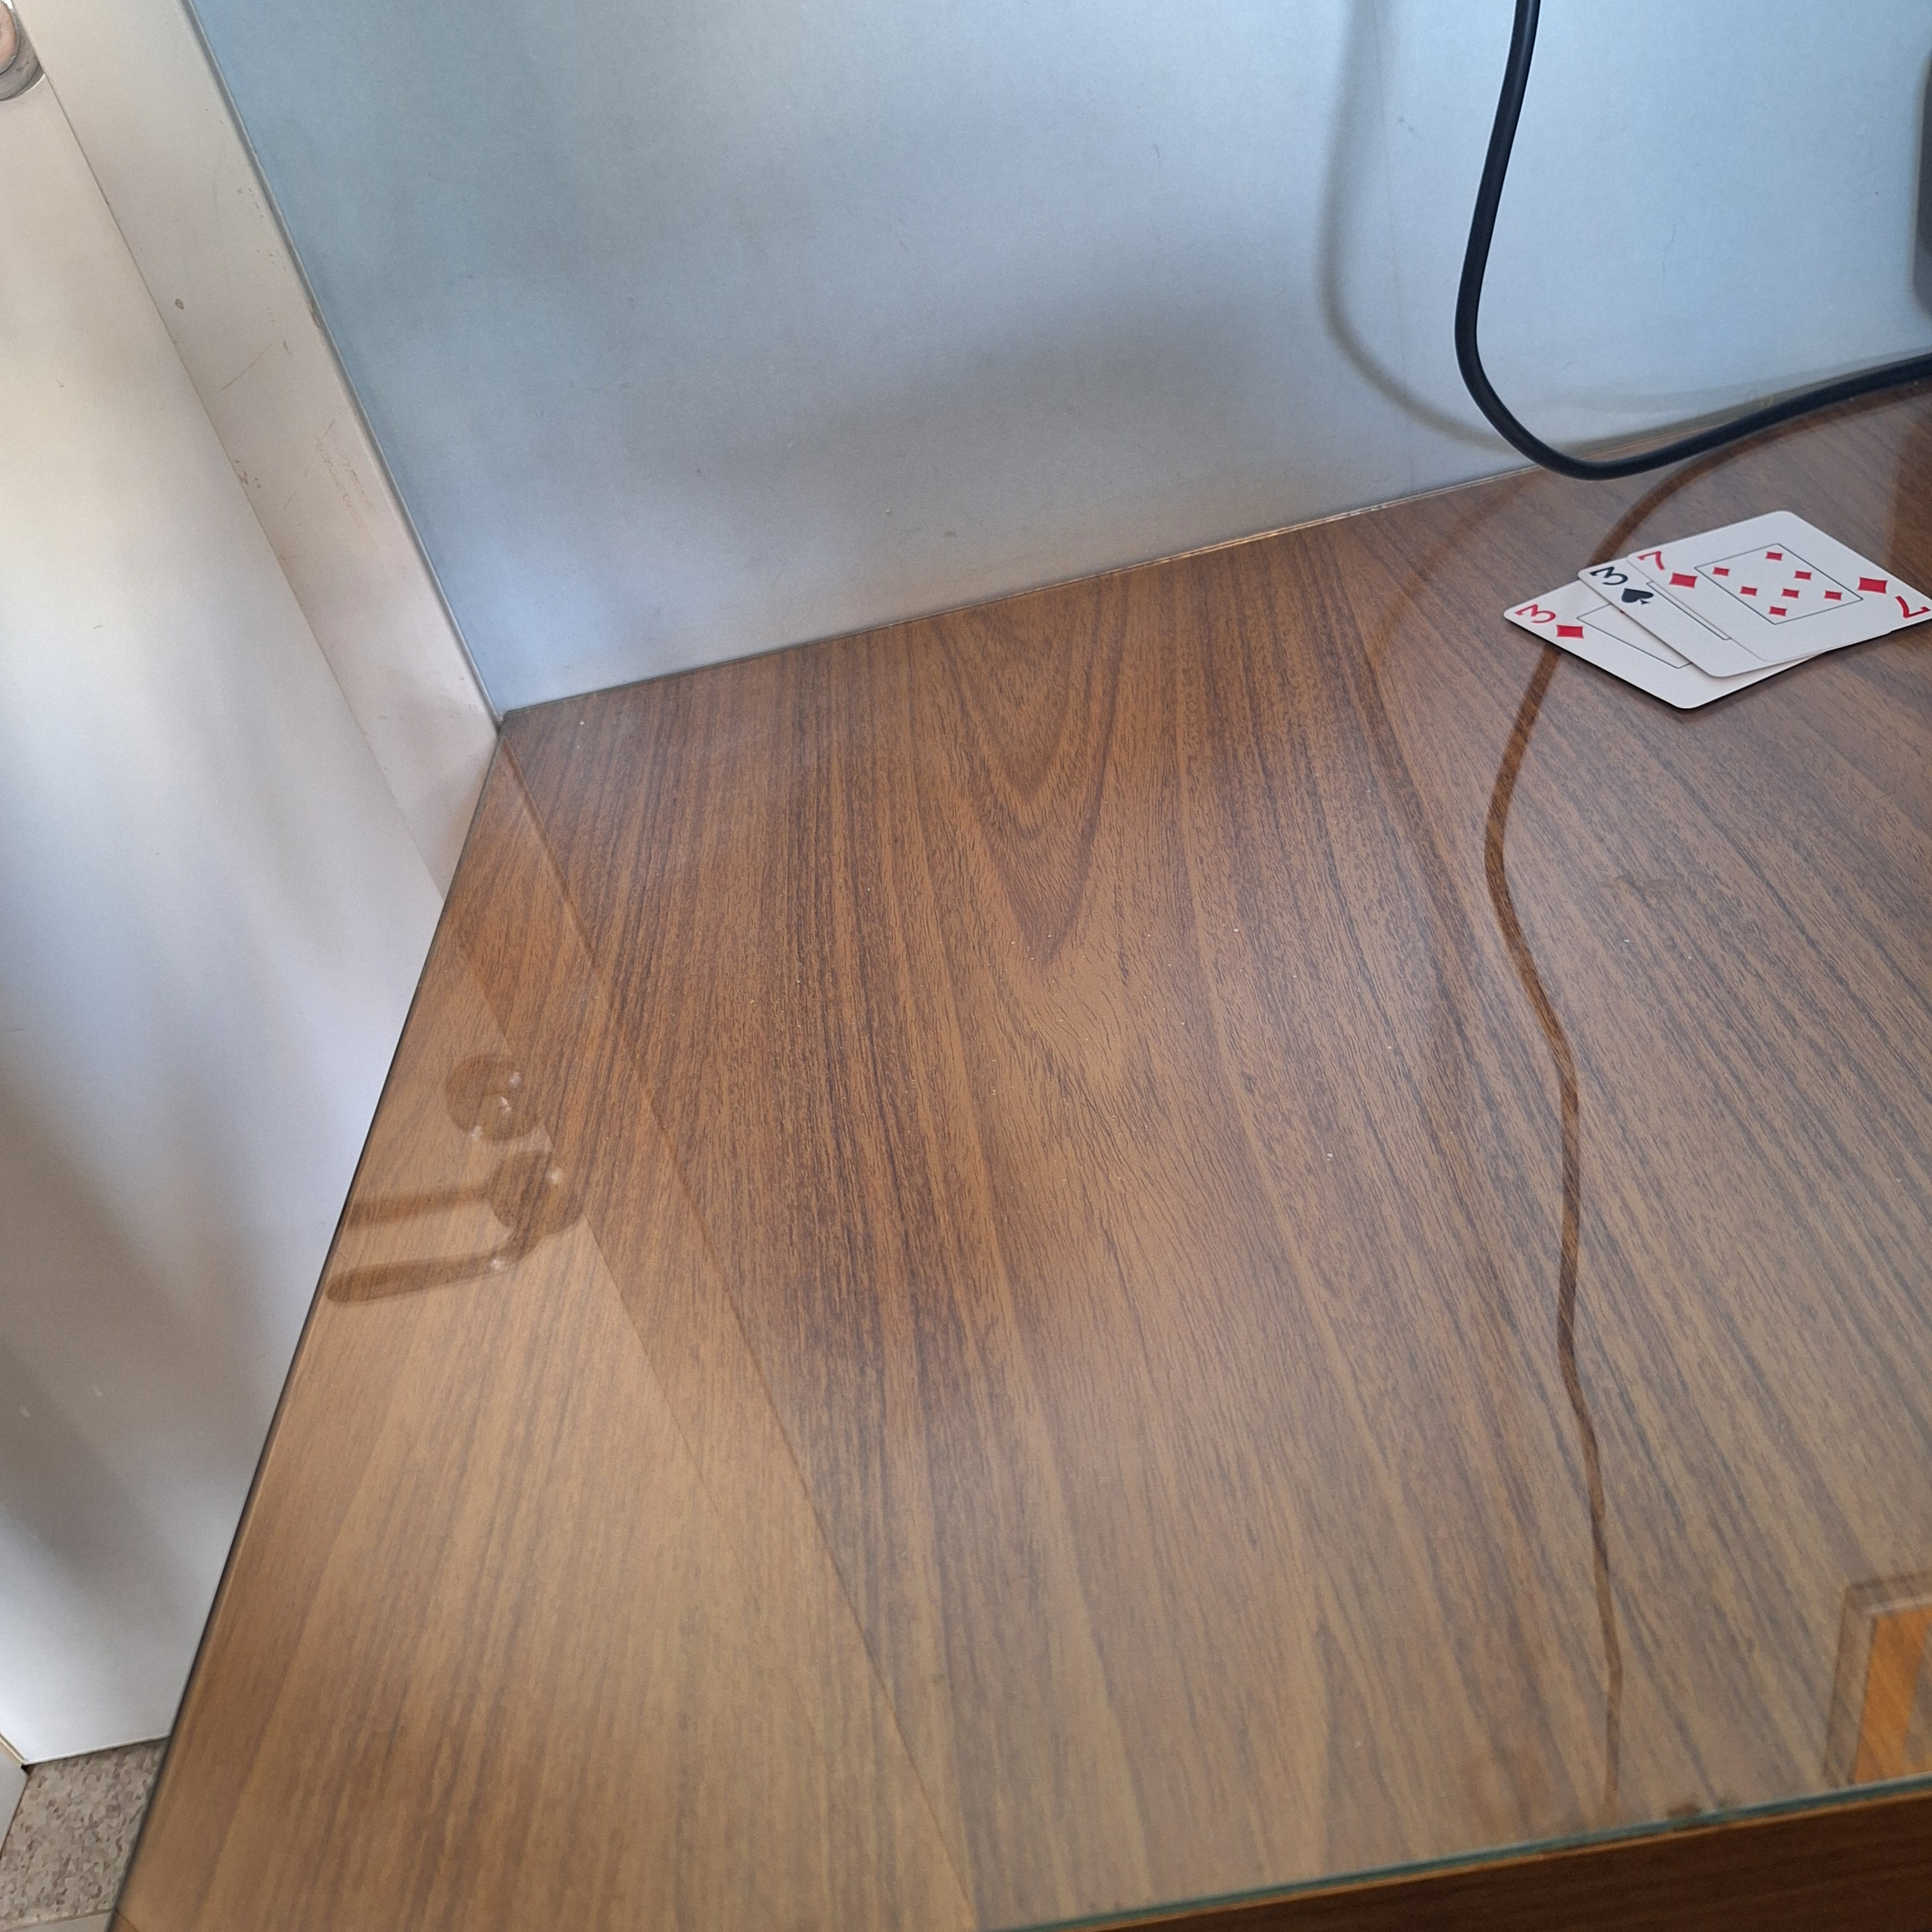3E: (1585, 559, 1654, 612)
3O: (1507, 596, 1596, 648)
7O: (1852, 566, 1932, 639), (1638, 541, 1697, 591)
